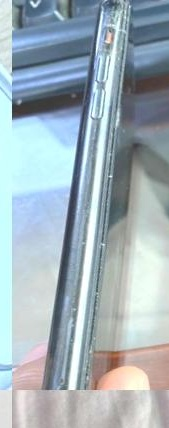scratch: (23, 298, 105, 390), (90, 0, 134, 45), (92, 94, 129, 135), (77, 215, 107, 251), (88, 151, 116, 184)
